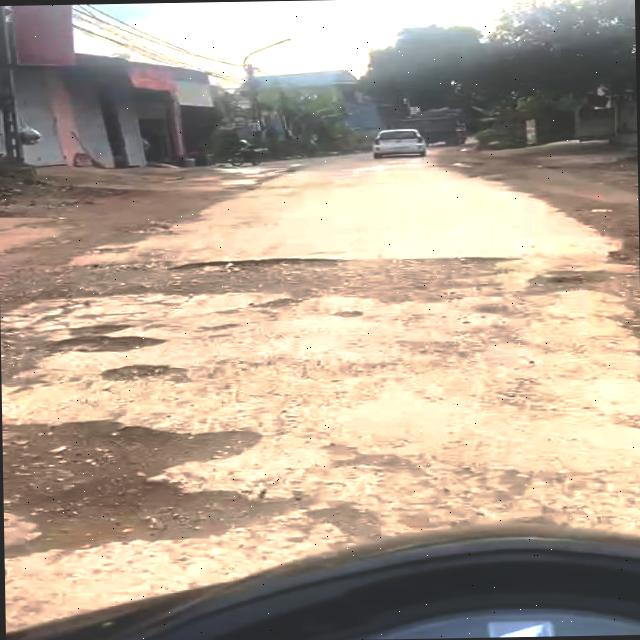pothole: (2, 414, 293, 554), (178, 252, 518, 306), (0, 322, 179, 382), (518, 265, 623, 299)
